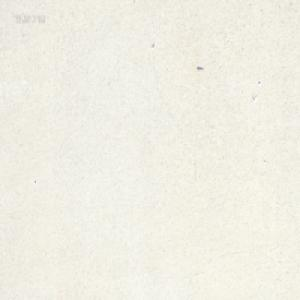Nail: (197, 66, 203, 70)
